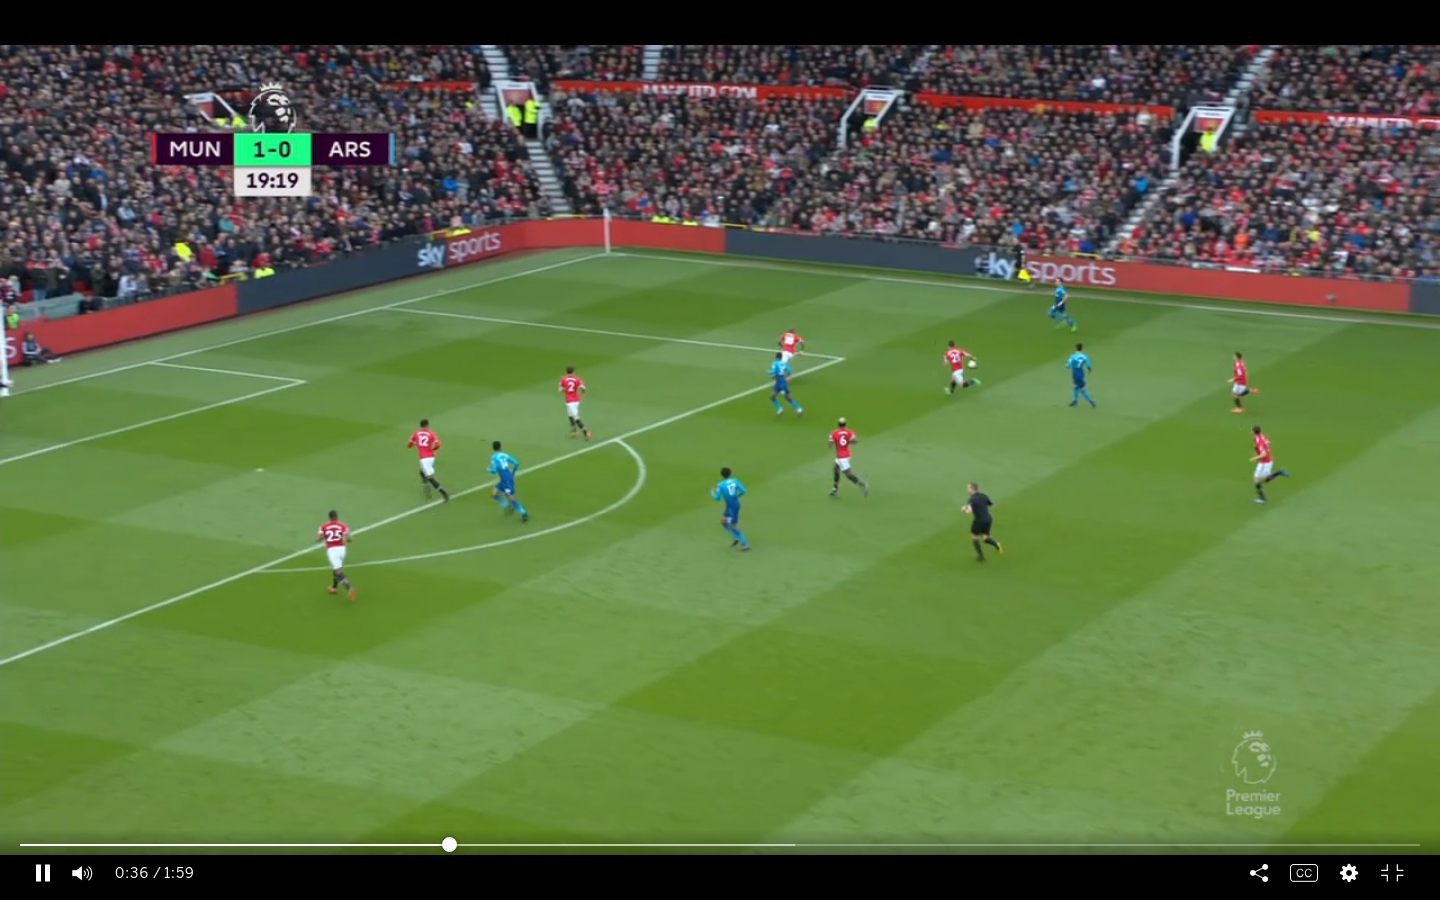referee: (953, 479, 1007, 560)
soccer player: (313, 505, 362, 608), (404, 414, 456, 508), (825, 414, 873, 511), (481, 440, 533, 528), (707, 463, 756, 554), (555, 363, 598, 442), (1245, 423, 1287, 503), (1222, 348, 1258, 425), (765, 351, 798, 422), (1067, 342, 1098, 414), (933, 337, 962, 400), (1047, 276, 1073, 334), (778, 328, 802, 366)
soccerball: (964, 356, 981, 374)
